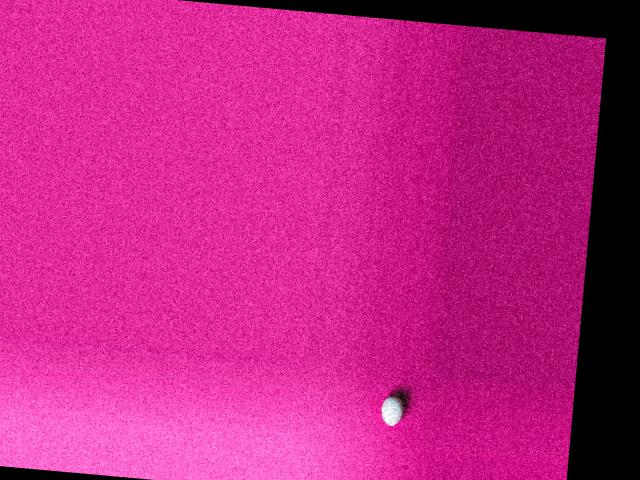egg: (379, 394, 403, 426)
